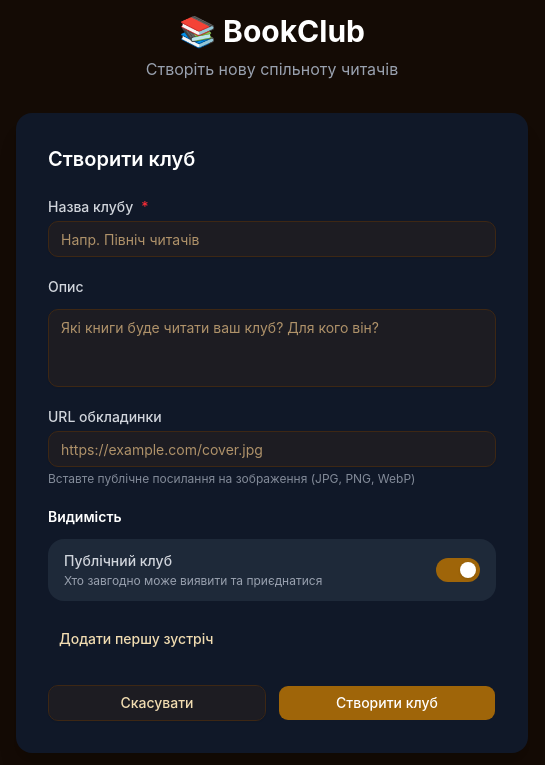
CreateClub › reports the cover rule (nope) with CREATE_CLUB.cover_url_invalid
This screenshot has width=545, height=765.
Click the field labelled "URL обкладинки": (272, 449) [48,431,496,467]
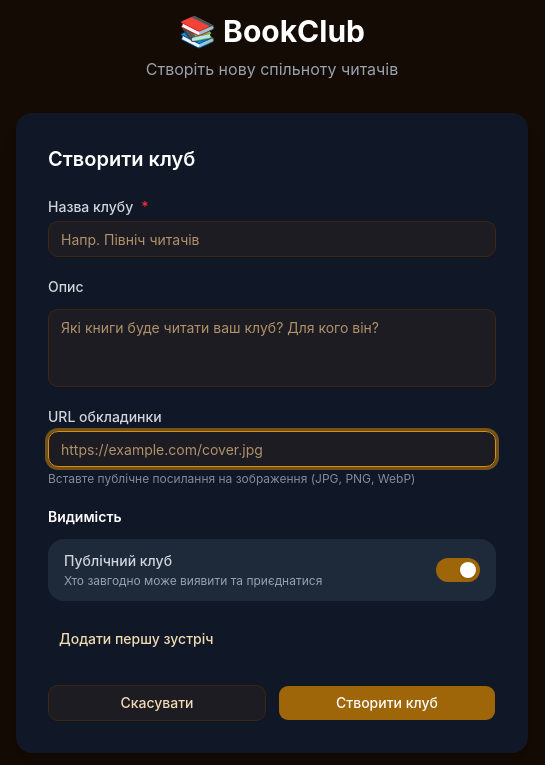
Type keys "nope"
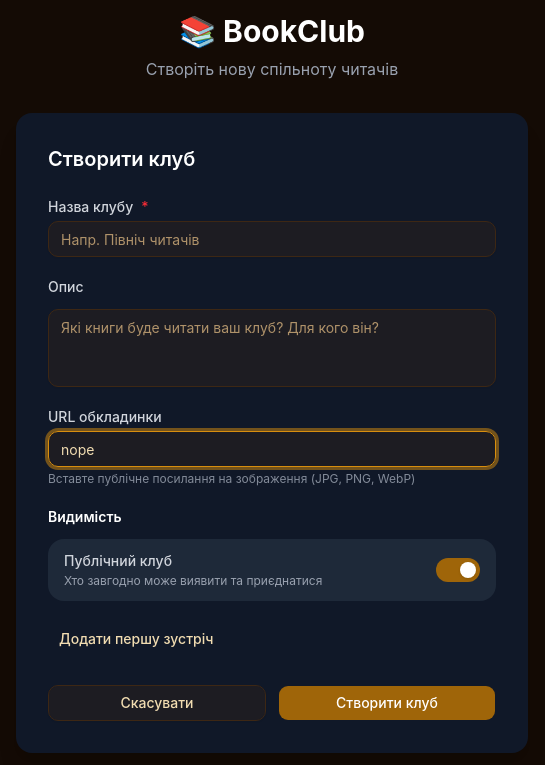
Press Tab
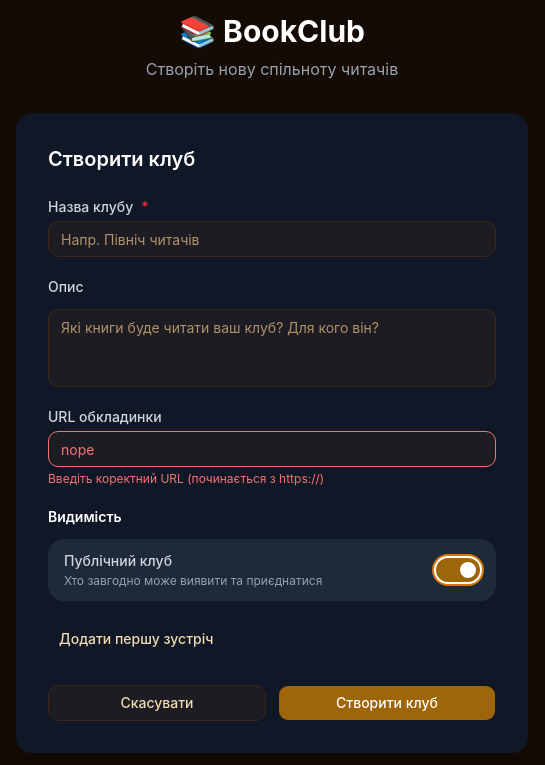
Expected: the text "Введіть коректний URL (починається з https://)" is shown, [48,471,324,486]
